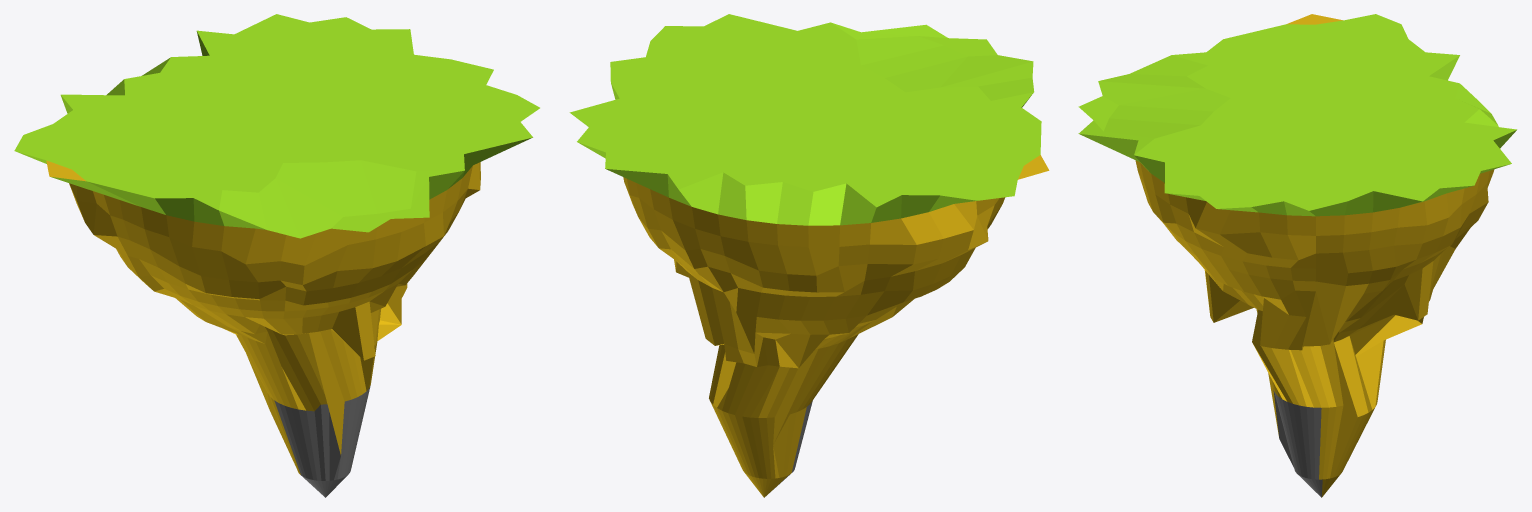
File: island 1.glb
3 renders of one model, left to right at view 1: azimuth 30°, elevation 25°; view 2: azimuth 150°, elevation 25°; view 3: azimuth 270°, elevation 25°, orthographic. The views are drawn at different scales.
Parts seen in each view (by area): view 1: Sphere; view 2: Sphere; view 3: Sphere.
Part boxes in pixels (x1,y1,x2,y2): Sphere: [14, 14, 539, 497]; Sphere: [569, 14, 1049, 497]; Sphere: [1078, 14, 1516, 497].
Size of the model in its own units: 2.5 by 2.12 by 2.35.
